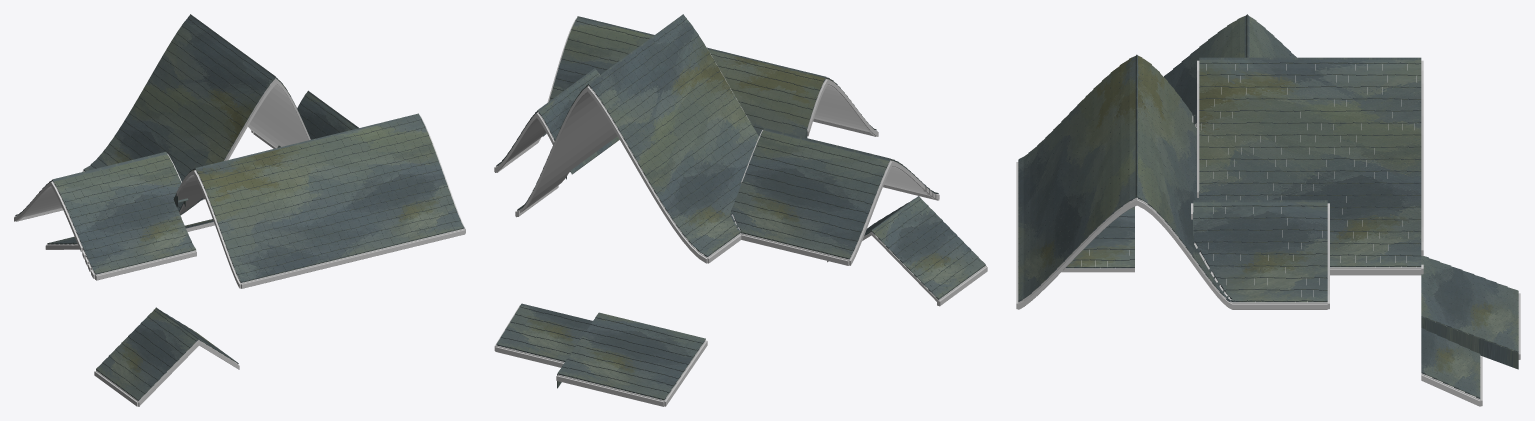
Rendered from CM02_FittedRoof.fbx.
3 views of the same model, side by side, from view 1: azimuth 30°, elevation 25°; view 2: azimuth 150°, elevation 25°; view 3: azimuth 270°, elevation 25° (orthographic). The views are drawn at different scales.
Visible parts, largest first — view 1: CM02_Roof_RearCross_Slate, CM02_Roof_Hero_Slate, CM02_Roof_SubordinateWing_Slate, CM02_Fitted_EaveVergeNetwork_Timber, CM02_Roof_GardenStore_Slate, CM02_Roof_Hero_Underlay, CM02_Roof_StairNook_Slate, CM02_Fitted_RidgeNetwork_Slate, CM02_Roof_RearCross_Underlay, CM02_Roof_SubordinateWing_Underlay; view 2: CM02_Roof_Hero_Slate, CM02_Roof_SubordinateWing_Slate, CM02_Roof_RearCross_Slate, CM02_Roof_DeepEntryFold_Slate, CM02_Fitted_EaveVergeNetwork_Timber, CM02_Roof_GardenStore_Slate, CM02_Roof_Hero_Underlay, CM02_Roof_LeftShopFold_Slate, CM02_Fitted_RidgeNetwork_Slate, CM02_Roof_RearCross_Underlay, CM02_Roof_StairNook_Slate, CM02_Roof_SubordinateWing_Underlay (+1 smaller); view 3: CM02_Roof_Hero_Slate, CM02_Roof_RearCross_Slate, CM02_Roof_StairNook_Slate, CM02_Roof_DeepEntryFold_Slate, CM02_Fitted_EaveVergeNetwork_Timber, CM02_Roof_SubordinateWing_Slate, CM02_Roof_LeftShopFold_Slate, CM02_Roof_GardenStore_Slate, CM02_Fitted_RidgeNetwork_Slate, CM02_Fitted_EaveVergeNetwork_Slate, CM02_Roof_Hero_Underlay, CM02_Roof_StairNook_Underlay (+1 smaller).
Boxes of the visible parts, x1,y1,x2,y2 form: CM02_Roof_RearCross_Slate: (176, 115, 464, 282); CM02_Roof_Hero_Slate: (83, 15, 310, 210); CM02_Roof_SubordinateWing_Slate: (15, 154, 195, 274); CM02_Fitted_EaveVergeNetwork_Timber: (14, 34, 465, 406); CM02_Roof_GardenStore_Slate: (96, 308, 238, 400); CM02_Roof_Hero_Underlay: (83, 78, 307, 171); CM02_Roof_StairNook_Slate: (297, 92, 356, 139); CM02_Fitted_RidgeNetwork_Slate: (51, 14, 419, 341); CM02_Roof_RearCross_Underlay: (178, 170, 464, 283); CM02_Roof_SubordinateWing_Underlay: (15, 181, 195, 277); CM02_Roof_Hero_Slate: (517, 15, 758, 256); CM02_Roof_SubordinateWing_Slate: (731, 130, 938, 259); CM02_Roof_RearCross_Slate: (549, 17, 876, 137); CM02_Roof_DeepEntryFold_Slate: (557, 312, 705, 400); CM02_Fitted_EaveVergeNetwork_Timber: (494, 18, 987, 406); CM02_Roof_GardenStore_Slate: (864, 197, 985, 299); CM02_Roof_Hero_Underlay: (517, 85, 740, 258); CM02_Roof_LeftShopFold_Slate: (496, 303, 592, 361); CM02_Fitted_RidgeNetwork_Slate: (537, 14, 921, 233); CM02_Roof_RearCross_Underlay: (807, 79, 876, 131); CM02_Roof_StairNook_Slate: (496, 70, 599, 166); CM02_Roof_SubordinateWing_Underlay: (732, 160, 938, 260); CM02_Roof_Hero_Slate: (1199, 59, 1421, 267); CM02_Roof_RearCross_Slate: (1018, 55, 1232, 301); CM02_Roof_StairNook_Slate: (1193, 202, 1327, 302); CM02_Roof_DeepEntryFold_Slate: (1421, 255, 1518, 352); CM02_Fitted_EaveVergeNetwork_Timber: (1016, 60, 1520, 406); CM02_Roof_SubordinateWing_Slate: (1164, 16, 1296, 122); CM02_Roof_LeftShopFold_Slate: (1421, 328, 1480, 398); CM02_Roof_GardenStore_Slate: (1065, 206, 1134, 268); CM02_Fitted_RidgeNetwork_Slate: (1134, 14, 1421, 206); CM02_Fitted_EaveVergeNetwork_Slate: (1192, 114, 1518, 369); CM02_Roof_Hero_Underlay: (1201, 64, 1421, 268); CM02_Roof_StairNook_Underlay: (1194, 207, 1327, 303).
Bounding box in the file's own units: 12.21 × 8.73 × 12.56.
